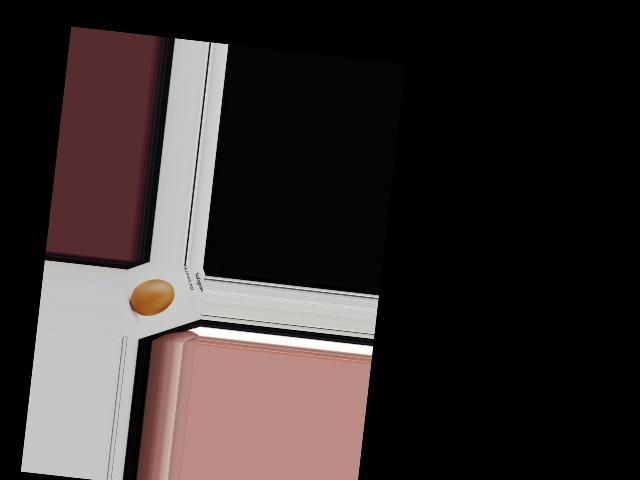egg: (128, 276, 175, 318)
